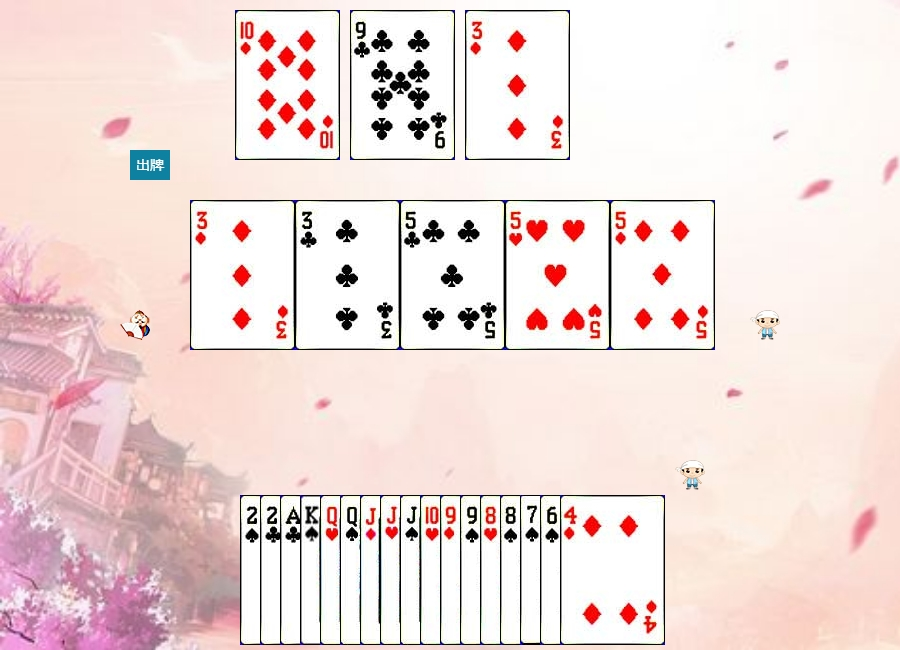10~1: (235, 10, 340, 160)
10~3: (420, 495, 525, 645)
11~1: (360, 495, 465, 645)
11~3: (380, 495, 485, 645)
11~4: (400, 495, 505, 645)
12~3: (320, 495, 425, 645)
12~4: (340, 495, 445, 645)
13~4: (300, 495, 405, 645)
14~2: (280, 495, 385, 645)
15~2: (260, 495, 365, 645)
15~4: (240, 495, 345, 645)
3~1: (465, 10, 570, 160), (190, 200, 295, 350)
3~2: (295, 200, 400, 350)
4~1: (560, 495, 665, 645)
5~1: (610, 200, 715, 350)
5~2: (400, 200, 505, 350)
5~3: (505, 200, 610, 350)
6~4: (540, 495, 645, 645)
7~4: (520, 495, 625, 645)
8~3: (480, 495, 585, 645)
8~4: (500, 495, 605, 645)
9~1: (440, 495, 545, 645)
9~2: (350, 10, 455, 160)
9~4: (460, 495, 565, 645)
